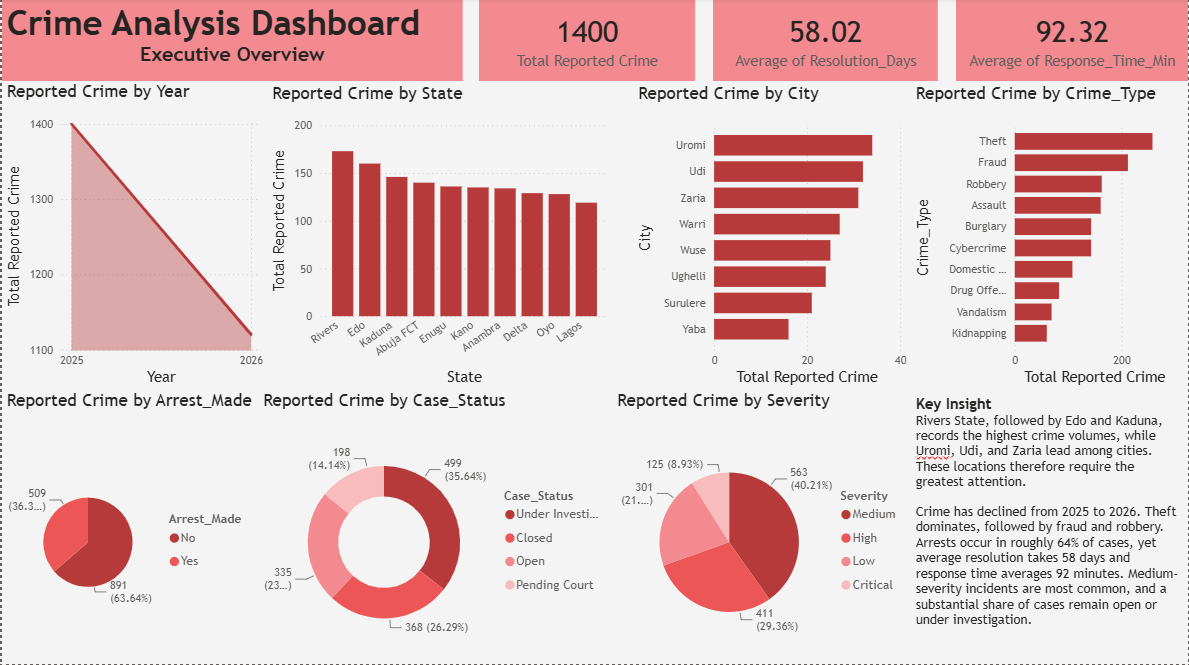

Layout of this report page (visuals, bound fields, positions):
{"tool":"powerbi","page":{"name":"Page 1","canvas":[1280,720],"ordinal":0},"visuals":[{"type":"card","fields":{"Values":["Dim_Crime.Total Crime"]},"box":[514.9,0,233.2,90.7],"z":0},{"type":"clusteredBarChart","title":"Reported Crime by Crime_Type","fields":{"Category":["Dim_Crime.Crime_Type"],"Y":["Dim_Crime.Total Reported Crime"]},"box":[981.3,92.3,299.6,331.9],"z":1},{"type":"clusteredColumnChart","title":"Reported Crime by State","fields":{"Category":["Dim_Location.State"],"Y":["Dim_Crime.Total Reported Crime"]},"box":[286.6,92.3,372.4,331.9],"z":2},{"type":"clusteredBarChart","title":"Reported Crime by City","fields":{"Category":["Dim_Location.City"],"Y":["Dim_Crime.Total Reported Crime"]},"box":[681.7,92.3,299.6,331.9],"z":3},{"type":"pieChart","title":"Reported Crime by Arrest_Made","fields":{"Category":["Fact_Crime.Arrest_Made"],"Y":["Dim_Crime.Total Reported Crime"]},"box":[0,424.2,276.9,296.3],"z":4},{"type":"donutChart","title":"Reported Crime by Case_Status","fields":{"Category":["Fact_Crime.Case_Status"],"Y":["Dim_Crime.Total Reported Crime"]},"box":[276.9,424.2,382.1,296.3],"z":5},{"type":"pieChart","title":"Reported Crime by Severity","fields":{"Category":["Dim_Severity.Severity"],"Y":["Dim_Crime.Total Reported Crime"]},"box":[659,424.2,322.2,296.3],"z":6},{"type":"card","fields":{"Values":["Avg(Fact_Crime.Resolution_Days)"]},"box":[767.5,0,242.9,90.7],"z":7},{"type":"card","fields":{"Values":["Avg(Fact_Crime.Response_Time_Min)"]},"box":[1029.8,0,251,90.7],"z":8},{"type":"stackedAreaChart","title":"Reported Crime by Year","fields":{"Category":["Dim_Date.Month_Year.Variation.Date Hierarchy.Year","Dim_Date.Month_Year.Variation.Date Hierarchy.Quarter","Dim_Date.Month_Year.Variation.Date Hierarchy.Month","Dim_Date.Month_Year.Variation.Date Hierarchy.Day"],"Y":["Dim_Crime.Total Reported Crime"]},"box":[0,90.7,286.6,333.6],"z":9},{"type":"textbox","box":[0,0,497.1,90.7],"z":10},{"type":"textbox","box":[981.3,424.2,299.6,296.3],"z":11}]}

Visuals, with their boxes in screenshot pixels (x1, y1, x2, y2), scaled from the page's 1280x720 canvas onto the 1189x665 screenshot:
card - Dim_Crime.Total Crime: (478,0,695,84)
"Reported Crime by Crime_Type" clusteredBarChart: (912,85,1188,392)
"Reported Crime by State" clusteredColumnChart: (266,85,612,392)
"Reported Crime by City" clusteredBarChart: (633,85,912,392)
"Reported Crime by Arrest_Made" pieChart: (0,392,257,664)
"Reported Crime by Case_Status" donutChart: (257,392,612,664)
"Reported Crime by Severity" pieChart: (612,392,911,664)
card - Avg(Fact_Crime.Resolution_Days): (713,0,939,84)
card - Avg(Fact_Crime.Response_Time_Min): (957,0,1188,84)
"Reported Crime by Year" stackedAreaChart: (0,84,266,392)
textbox: (0,0,462,84)
textbox: (912,392,1188,664)
